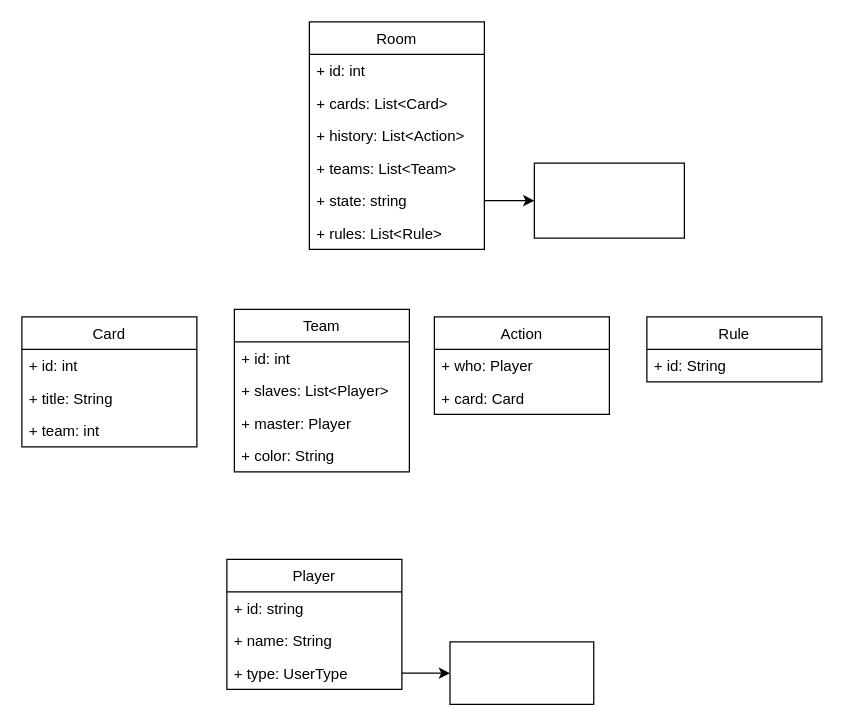
The diagram is 844 pixels wide and 726 high, and some of its shapes have lost their labels. The shapes that lost their labels are listed below. From the top down, each one's centre as x and y in pixels, then its label:
the point at 608,200: GameState: Starting, inProgress, Finished
the point at 521,672: UserType: Anonymous or Authorized
